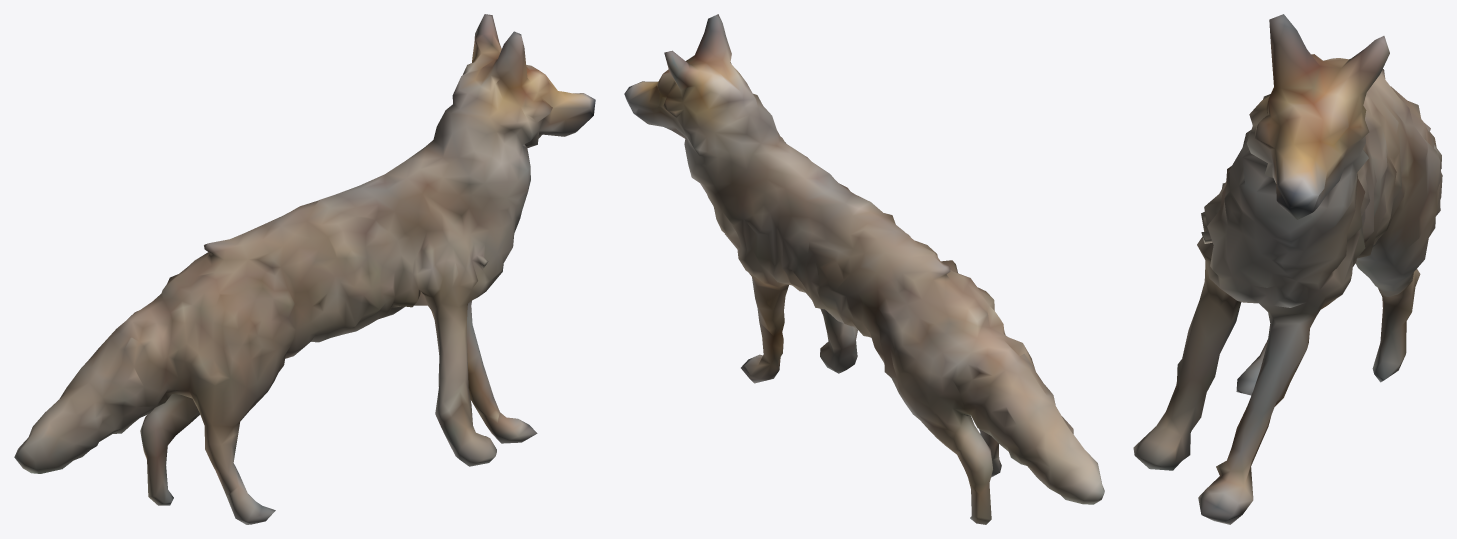
Rendered from red-fox-lowpoly-3000.glb.
3 renders of one model, left to right at view 1: azimuth 30°, elevation 25°; view 2: azimuth 150°, elevation 25°; view 3: azimuth 270°, elevation 25°, orthographic. The views are drawn at different scales.
Parts seen in each view (by area): view 1: world; view 2: world; view 3: world.
Part boxes in pixels (x1,y1,x2,y2): world: (14,14,595,524); world: (624,14,1104,524); world: (1133,14,1442,524).
Size of the model in its own units: 0.928 by 0.702 by 0.3454.
